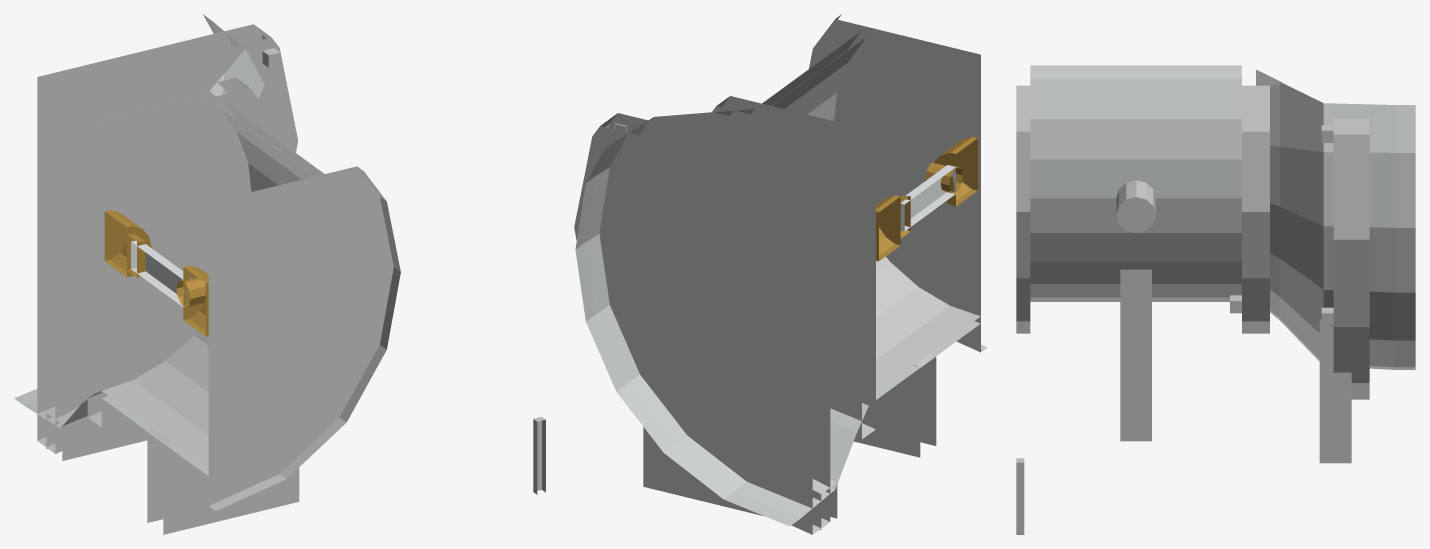
Rendered from cell_41.obj.
The picture shows the model from 3 angles, left to right: view 1: azimuth 30°, elevation 25°; view 2: azimuth 150°, elevation 25°; view 3: azimuth 270°, elevation 25°; orthographic projection.
Bounding box in the file's own units: 0.945 × 1 × 1.
